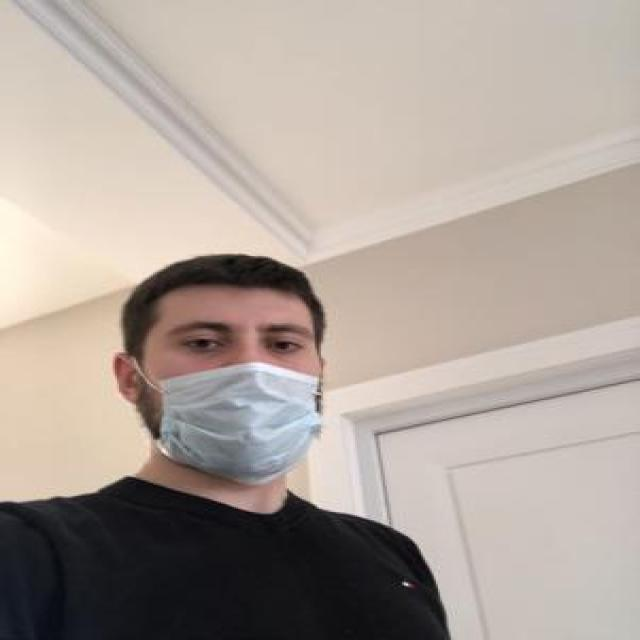with_mask: (146, 310, 322, 483)
